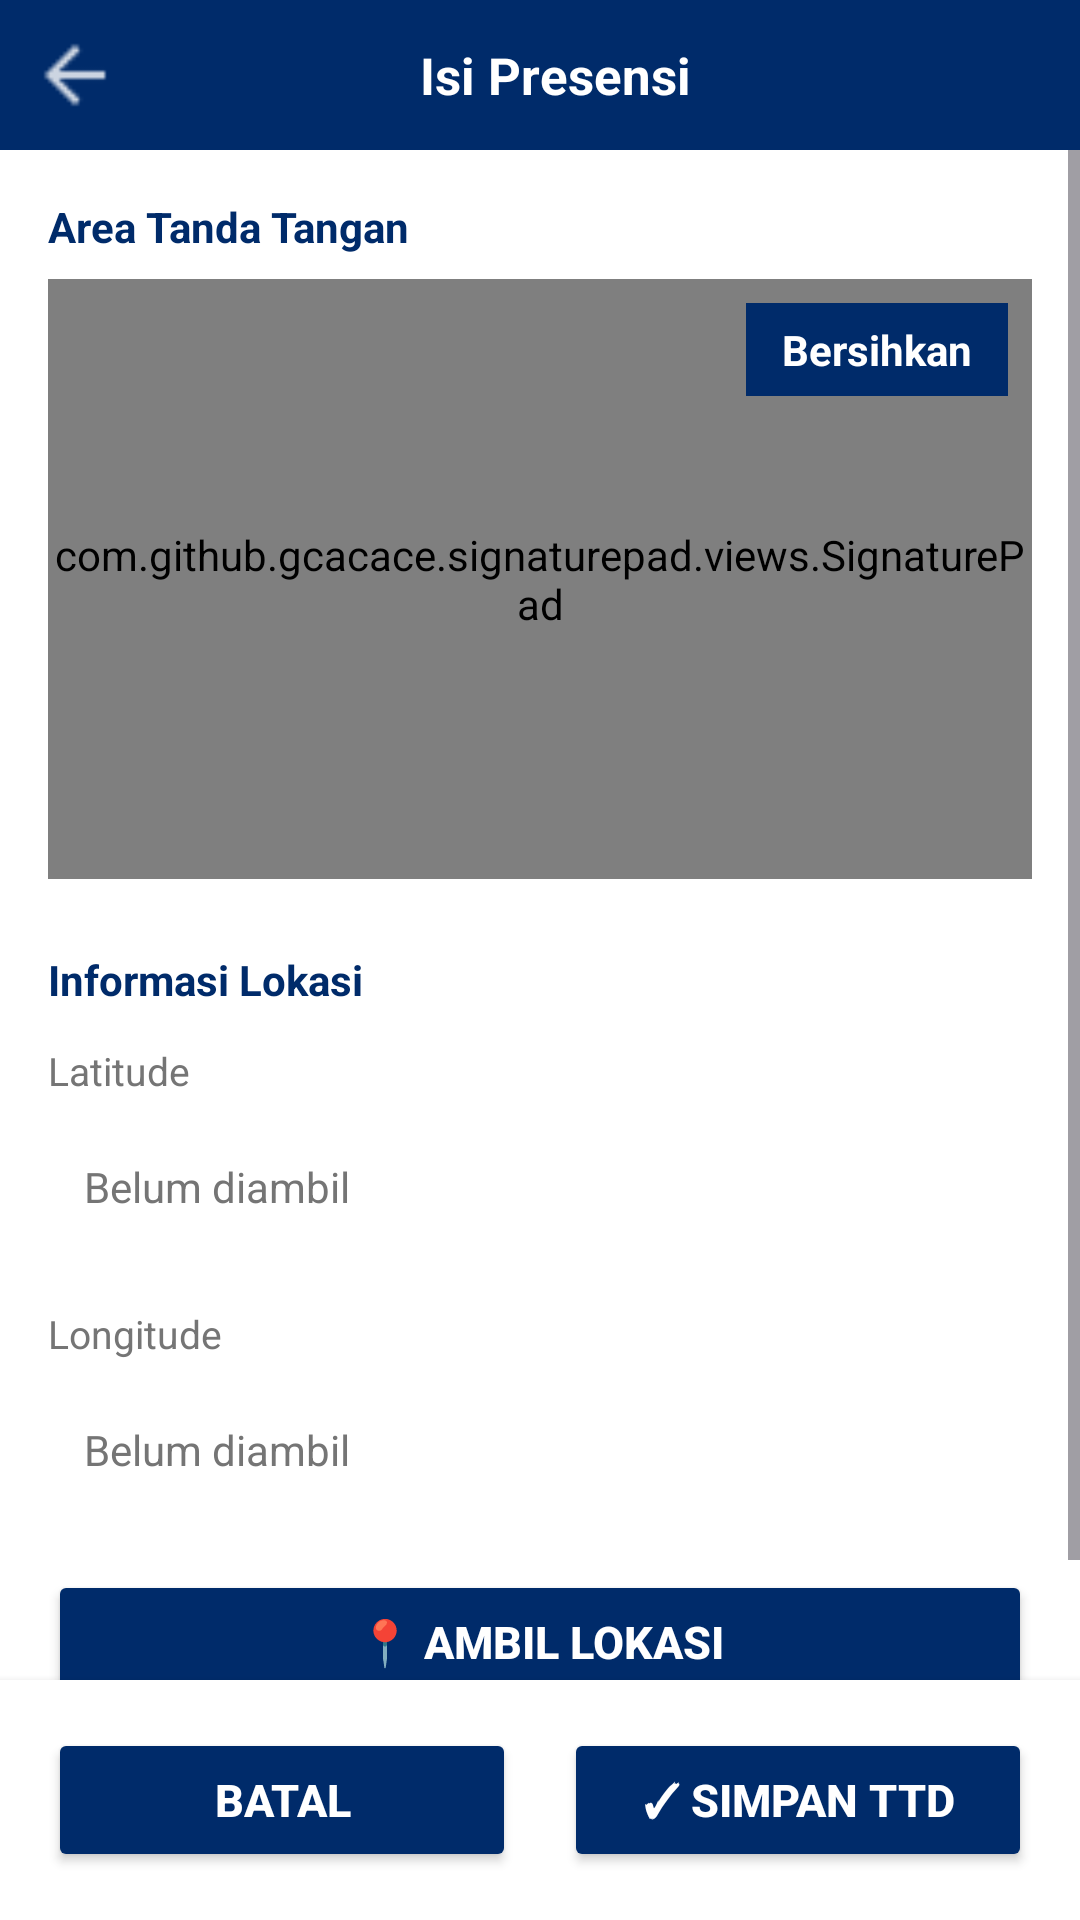

Icon click points for this 1080*1920 phone screenshot, format (x=x, y=y):
back: (x=75, y=75)
